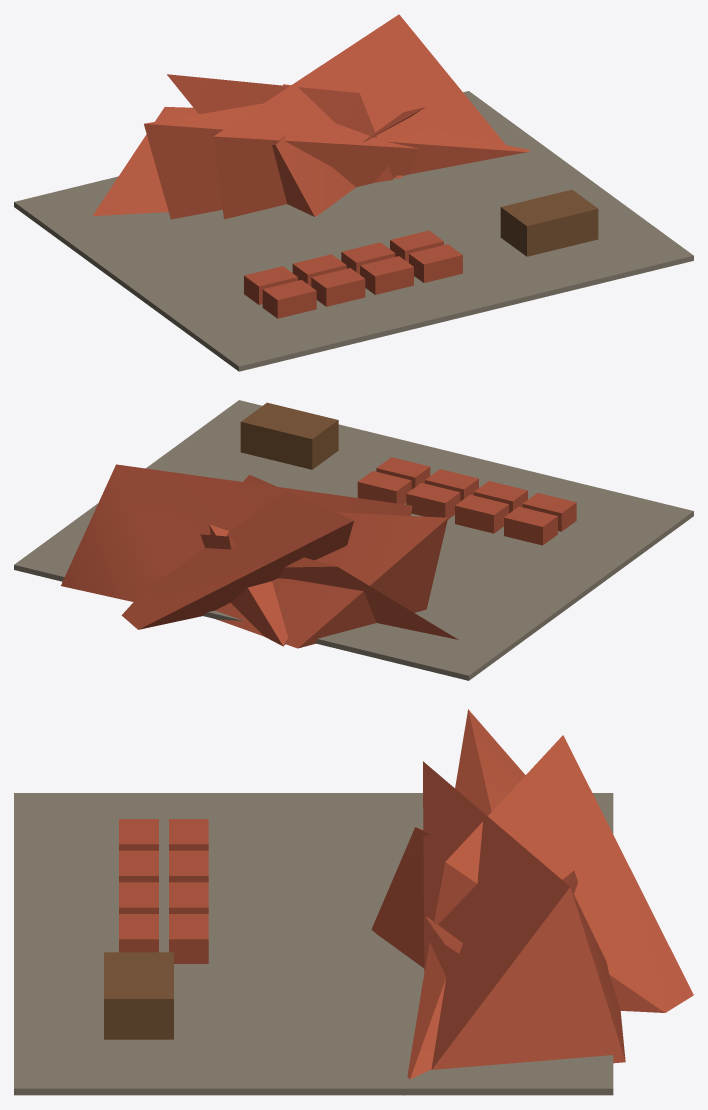
The model's file is quarry.glb.
3 views of the same model, one above another, from view 1: azimuth 30°, elevation 25°; view 2: azimuth 150°, elevation 25°; view 3: azimuth 270°, elevation 25° (orthographic). The views are drawn at different scales.
Visible parts, largest first — view 1: Quarry; view 2: Quarry; view 3: Quarry.
Boxes of the visible parts, x1,y1,x2,y2 form: Quarry: [14, 14, 693, 371]; Quarry: [14, 400, 693, 680]; Quarry: [14, 709, 693, 1095].
Size of the model in its own units: 14.01 by 3.38 by 13.61.
